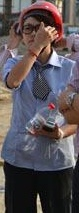hard-hat: (18, 0, 63, 43)
